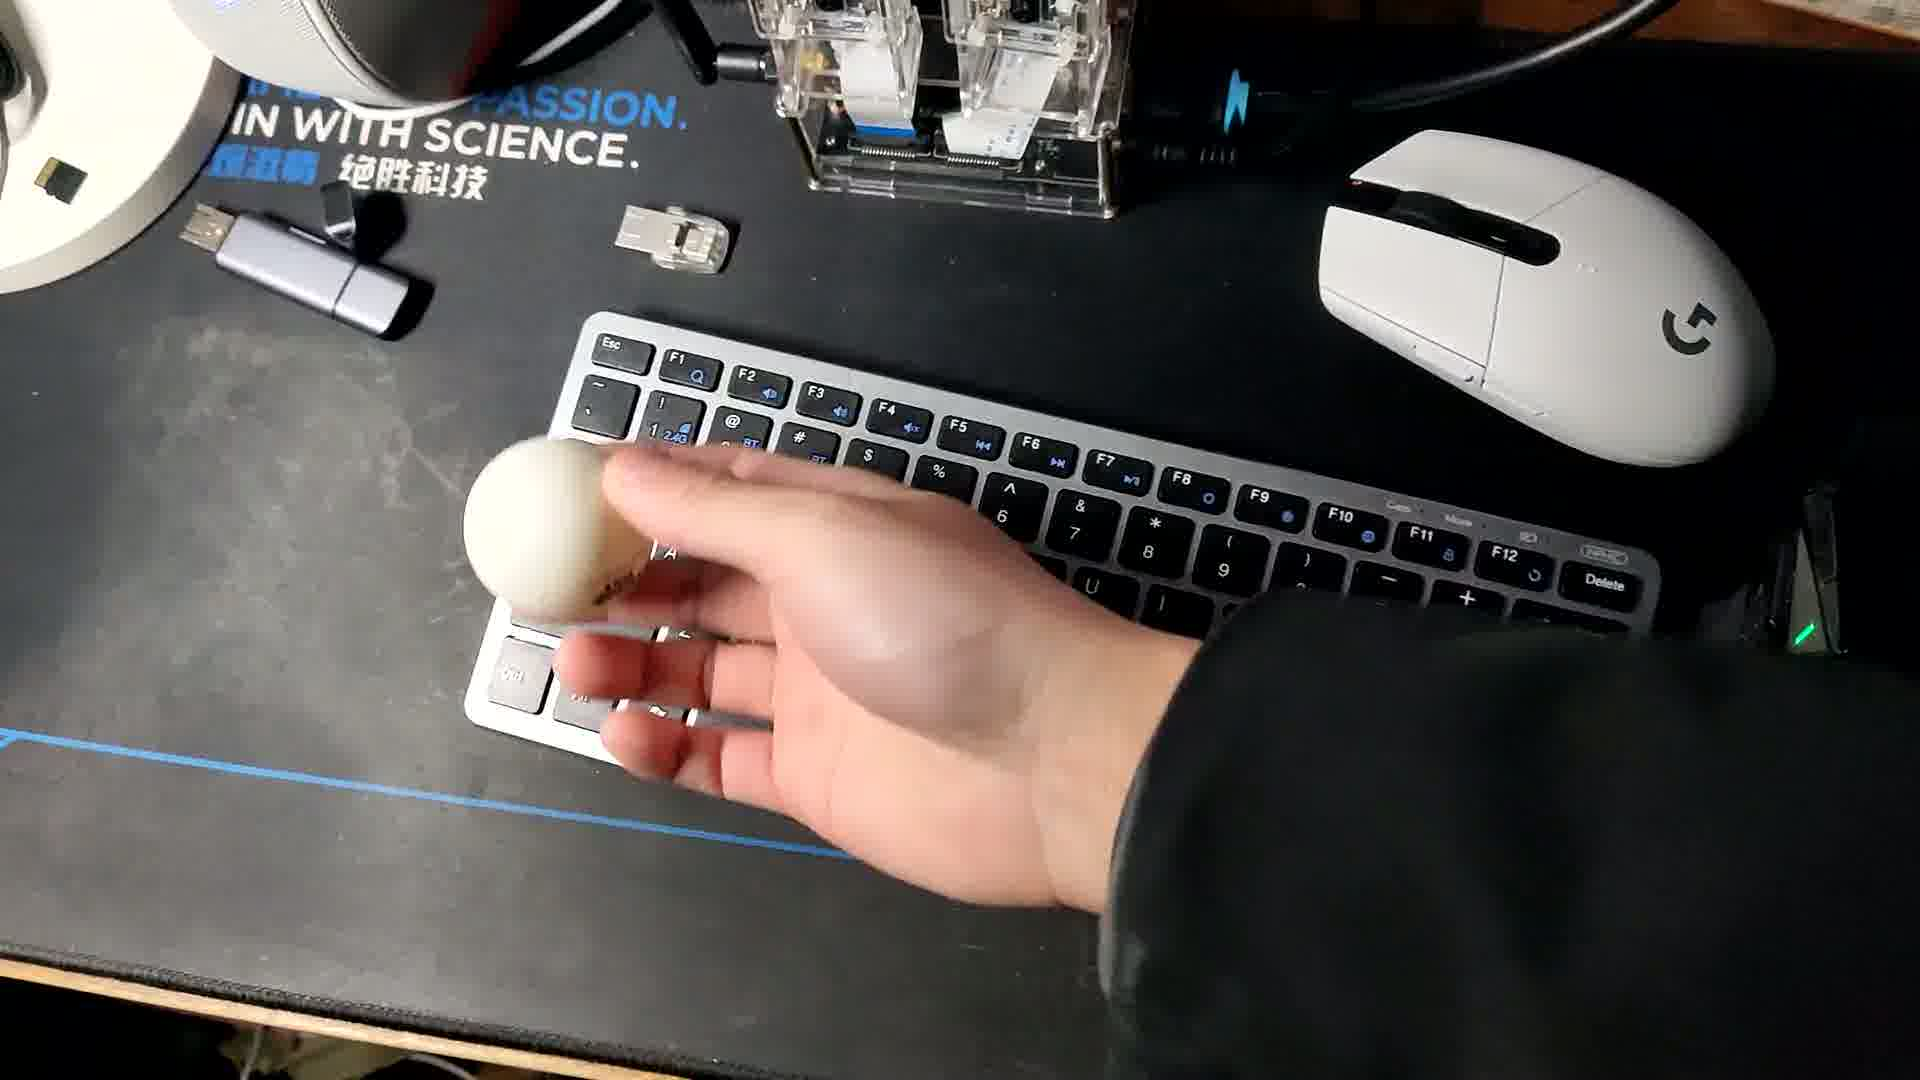Ball: (458, 435, 650, 622)
